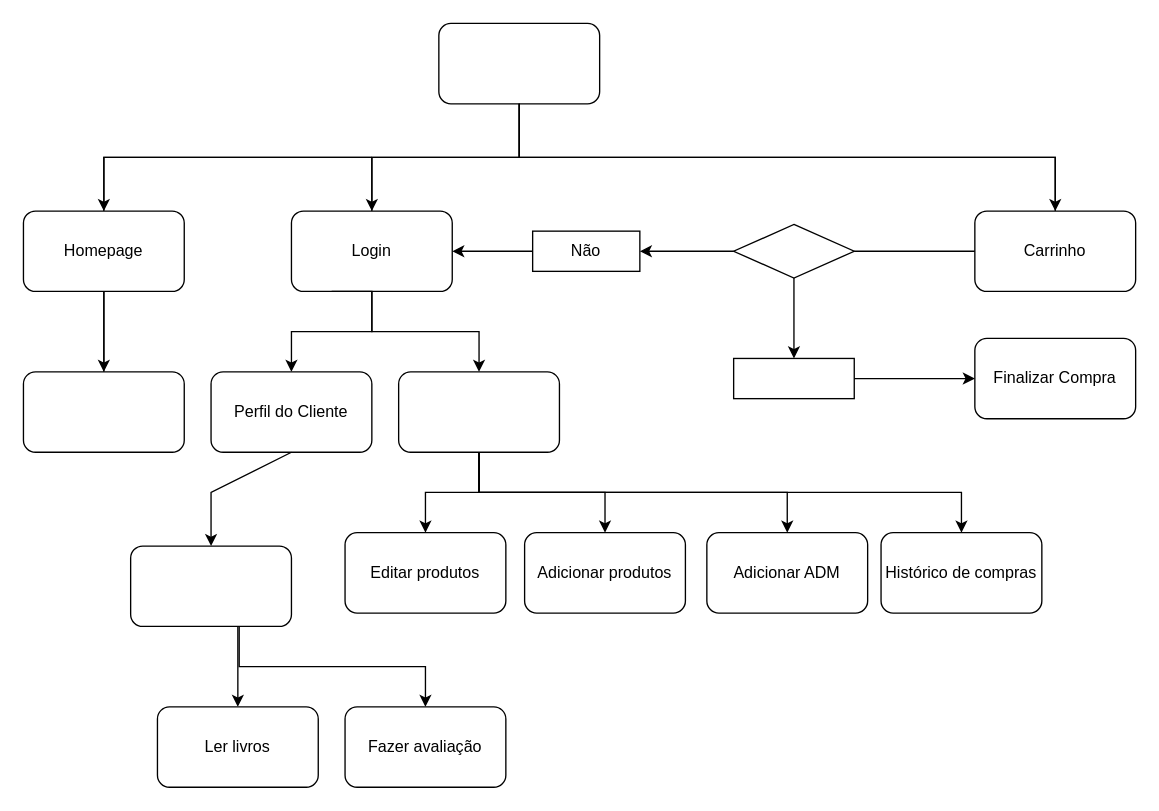
This 1159x811 diagram has some shape labels left out. The centre of each missing label's shape, as x and y in pixels:
Biblioteca: the point at 210,585
Logado: the point at 793,250
Navegation Bar: the point at 519,63
Perfil do ADM: the point at 478,411
Produto: the point at 103,411
Sim: the point at 793,378
